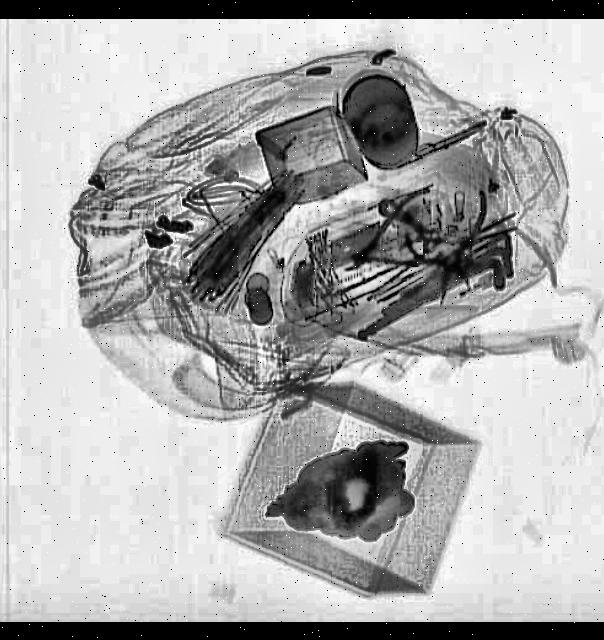Pliers: (328, 185, 456, 302)
